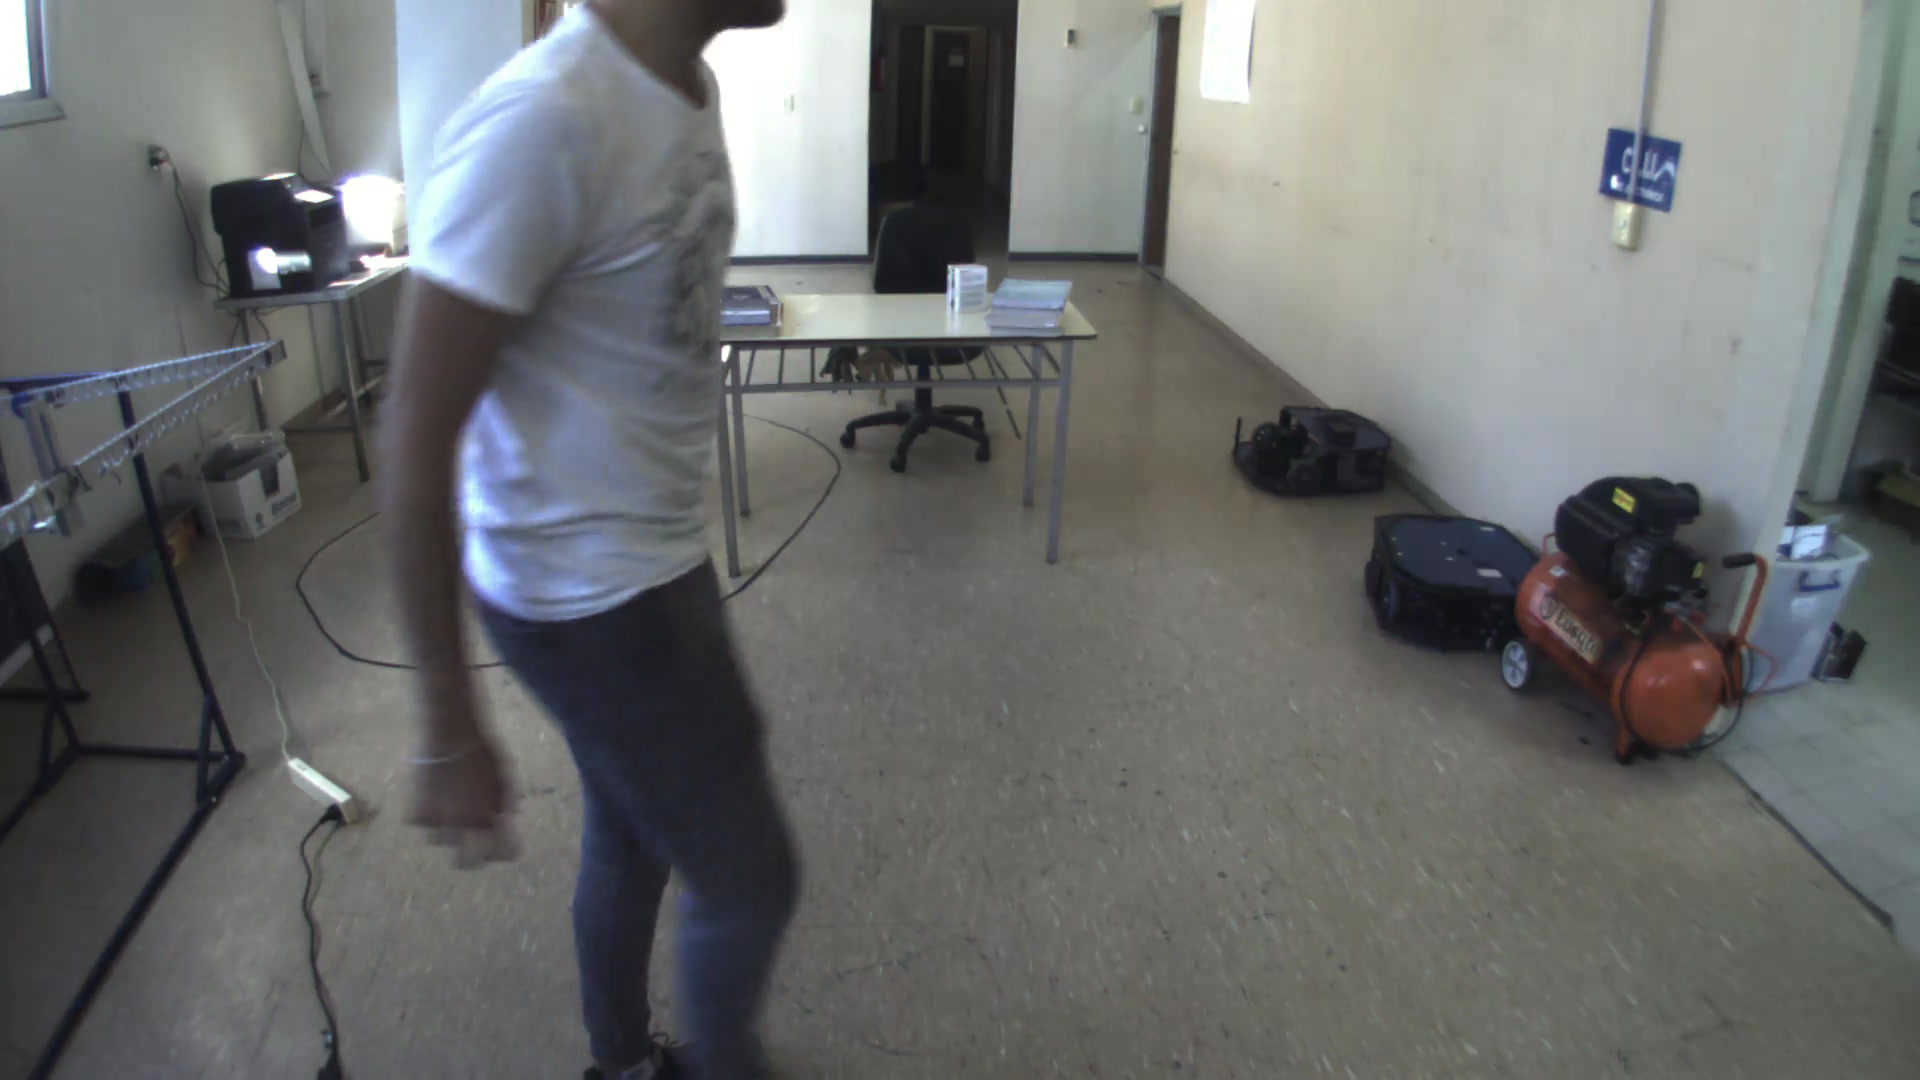hand: (405, 728, 529, 880)
